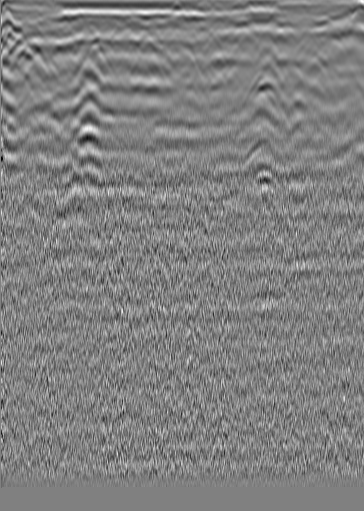가스: (244, 137, 279, 175)
상수: (10, 46, 30, 66)
오수: (313, 14, 333, 34)
우수: (139, 32, 159, 52)
